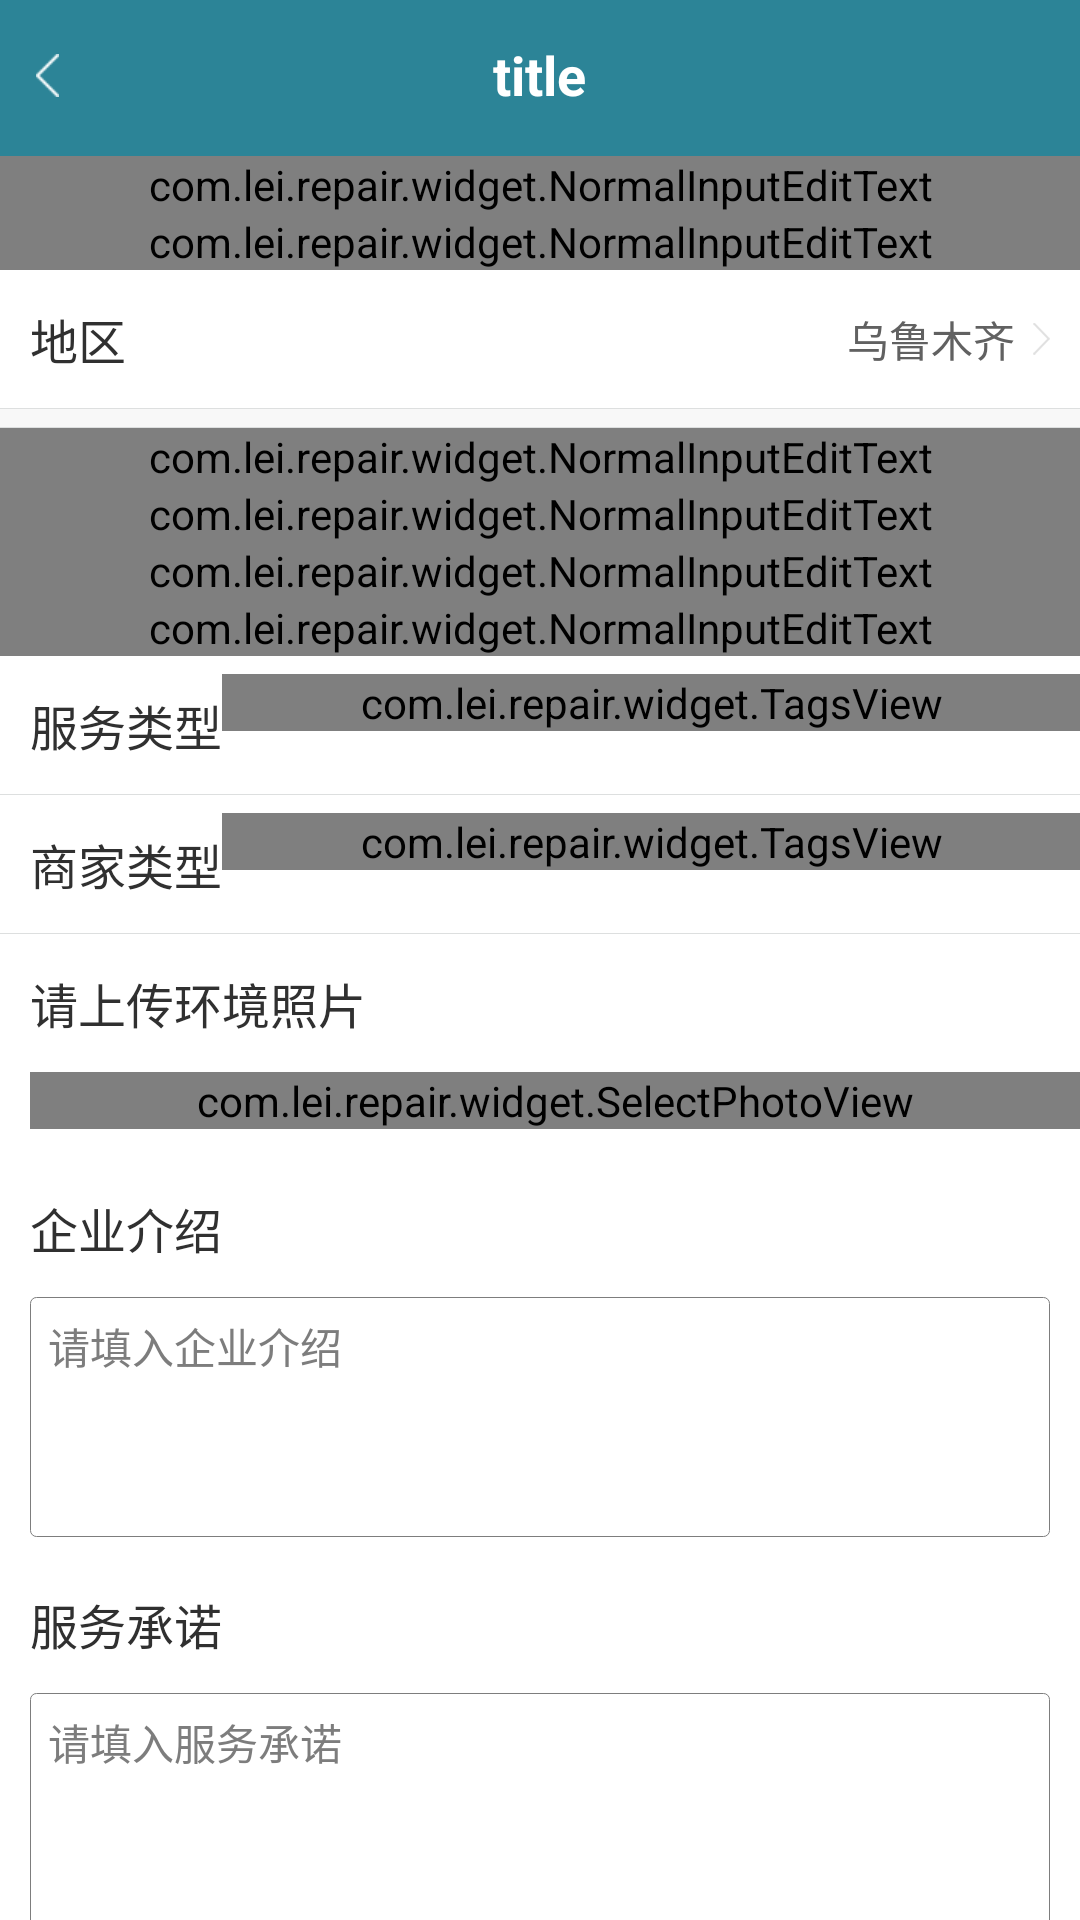

Named icons in this screenshot (1080x1920) and their bounding boxes, (x1=x1, y1=y1, x2=x2, y2=y2):
re baclk: (x1=36, y1=54, x2=59, y2=97)
